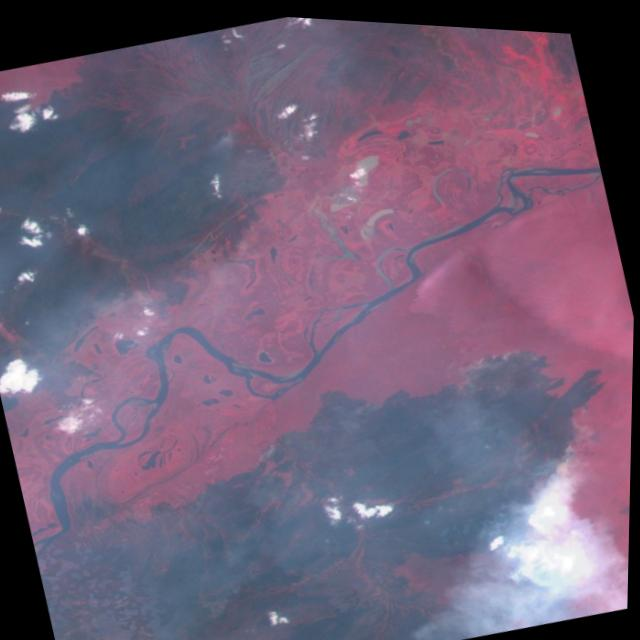fire: (143, 315, 617, 606), (99, 111, 311, 344)
